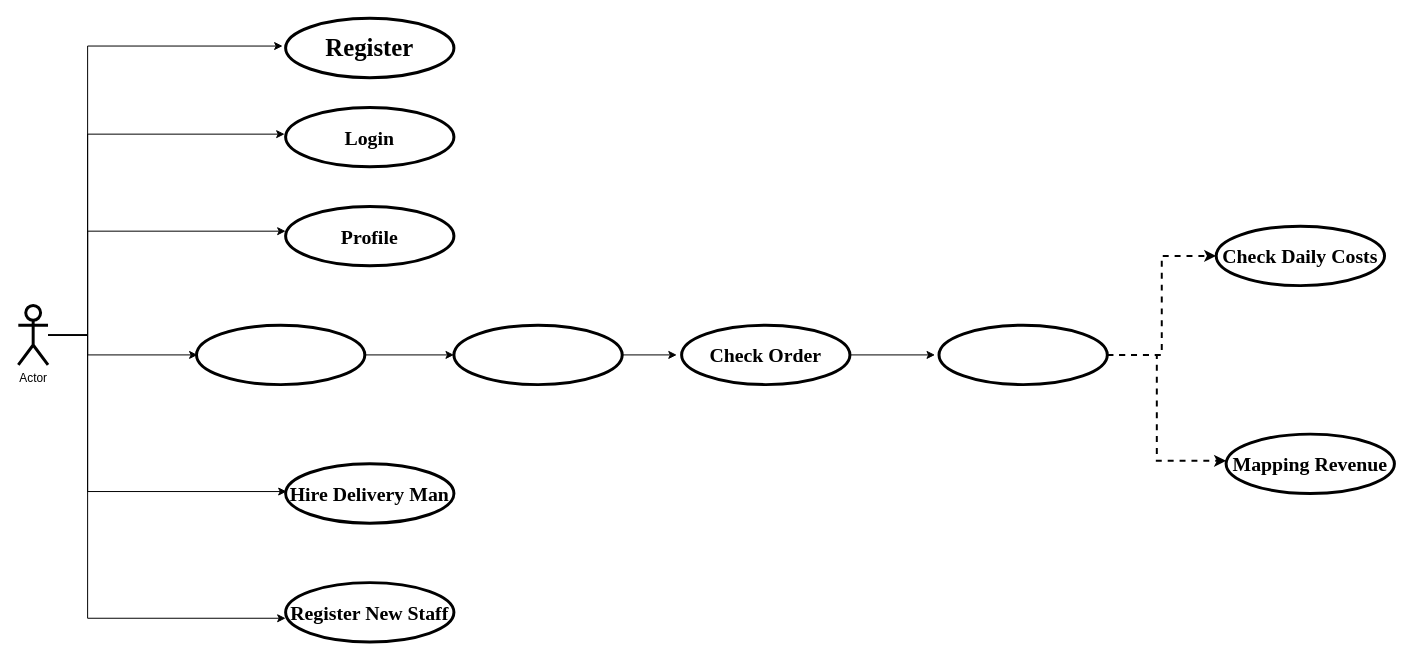
Some shapes in this 1413 by 660 pixel diagram are drawn without their labels. The box of each missing label's shape, as (x1, y1, x2, y2) in pixels:
Costs: (937, 323, 1108, 386)
Handle Product: (195, 323, 366, 386)
Revenue: (452, 323, 623, 386)
